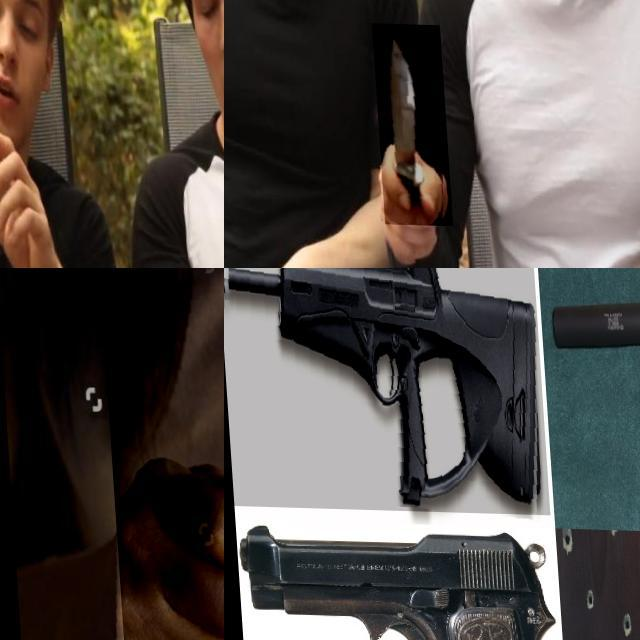-: (89, 268, 224, 640), (366, 22, 446, 224), (0, 108, 39, 268)
gun-knife-thesis - v11 Yolov5 augmented: (224, 268, 546, 513), (233, 521, 560, 640), (547, 281, 640, 484)
